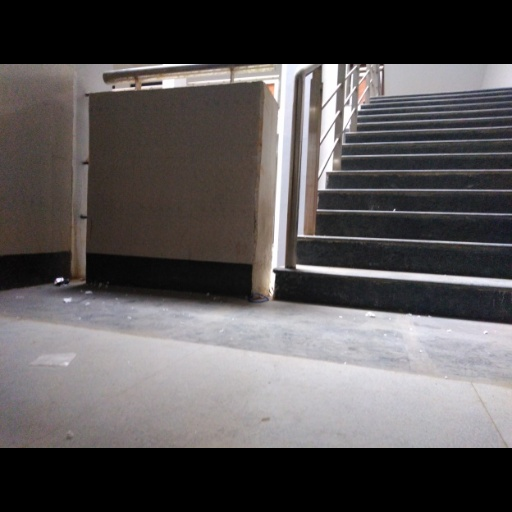Stairs: (276, 88, 512, 323)
